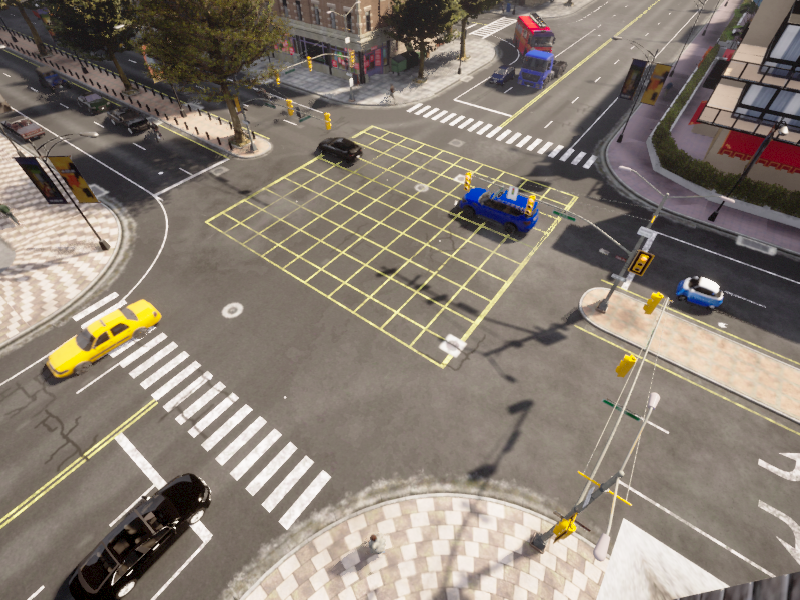vehicle: (23, 290, 162, 390), (453, 173, 544, 239), (668, 266, 727, 313), (100, 99, 157, 138), (311, 127, 363, 165), (144, 118, 171, 145), (249, 83, 273, 105)
